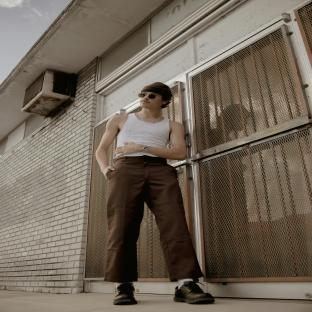Human: (96, 82, 214, 305)
